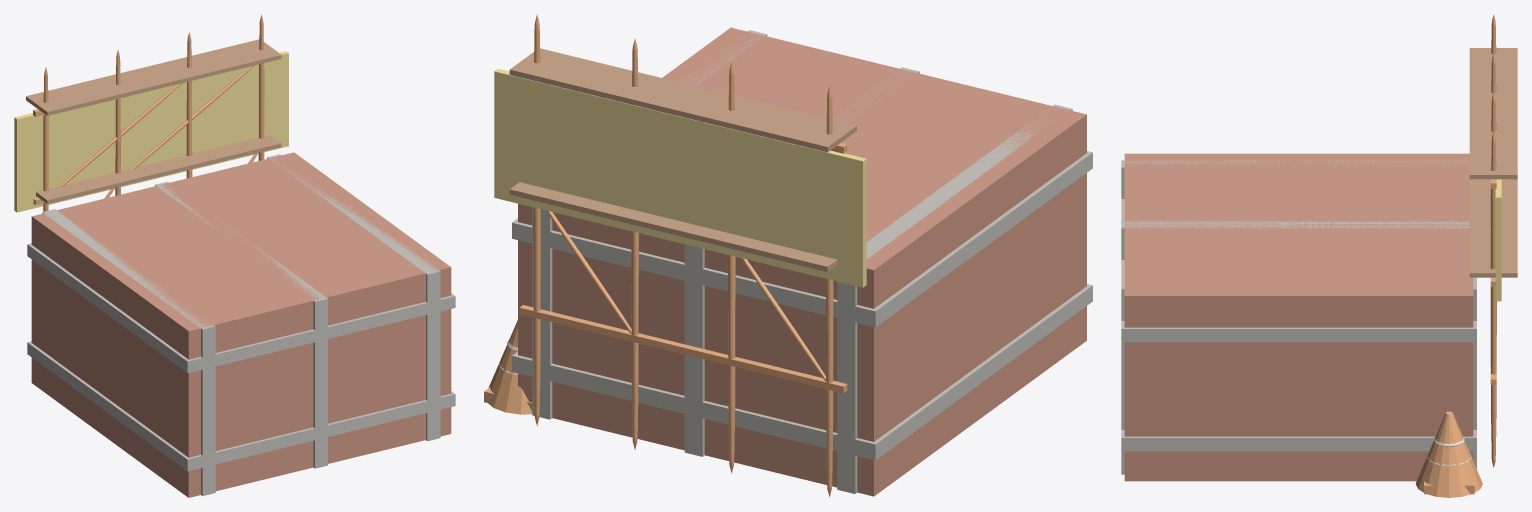
The model's file is obra.glb.
The picture shows the model from 3 angles, left to right: view 1: azimuth 30°, elevation 25°; view 2: azimuth 150°, elevation 25°; view 3: azimuth 270°, elevation 25°; orthographic projection. The views are drawn at different scales.
Visible parts, largest first — view 1: Obra; view 2: Obra; view 3: Obra.
Part boxes in pixels (x1,y1,x2,y2): Obra: (14, 14, 455, 497); Obra: (484, 14, 1092, 497); Obra: (1121, 14, 1517, 497).
Bounding box in the file's own units: 3.18 × 3.1 × 3.3.
